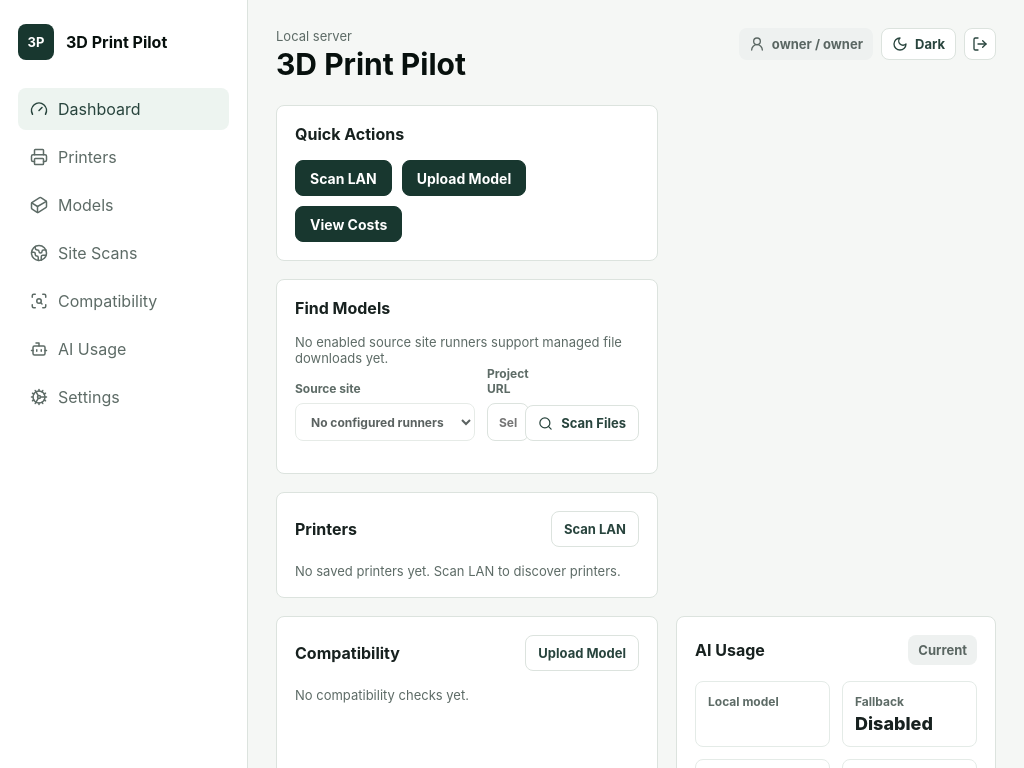
Scenario: App › lazy-loads the compatibility page from navigation
Click the button "Compatibility": x=124, y=301 [18,280,229,322]
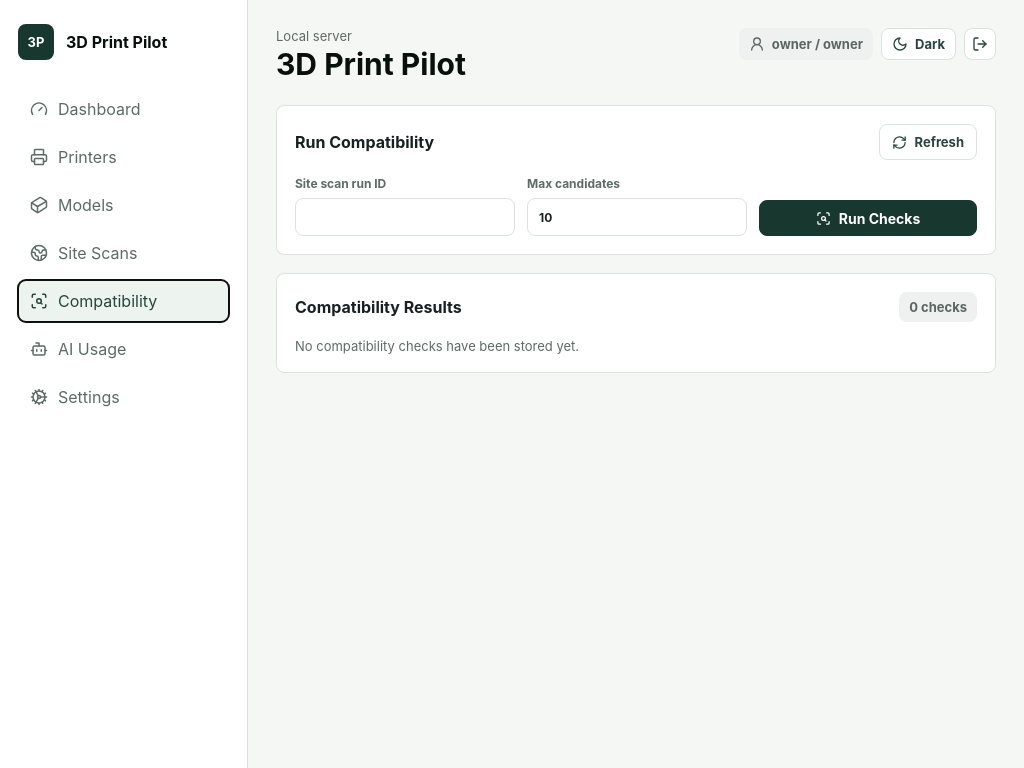
Check: the heading "Run Compatibility" is shown, box [295,132,434,152]
Check: the heading "Compatibility Results" is shown, box [295,297,462,317]
Check: the button "Run Checks" is shown, box [759,200,977,236]
